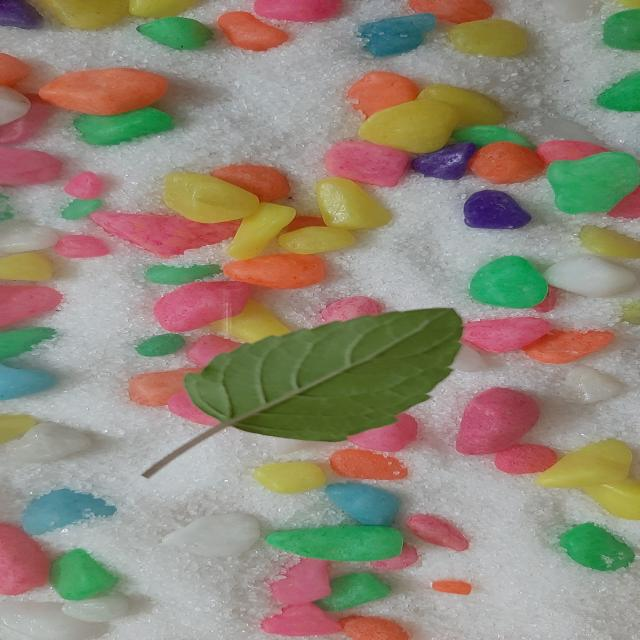tulsi: (144, 309, 463, 476)
